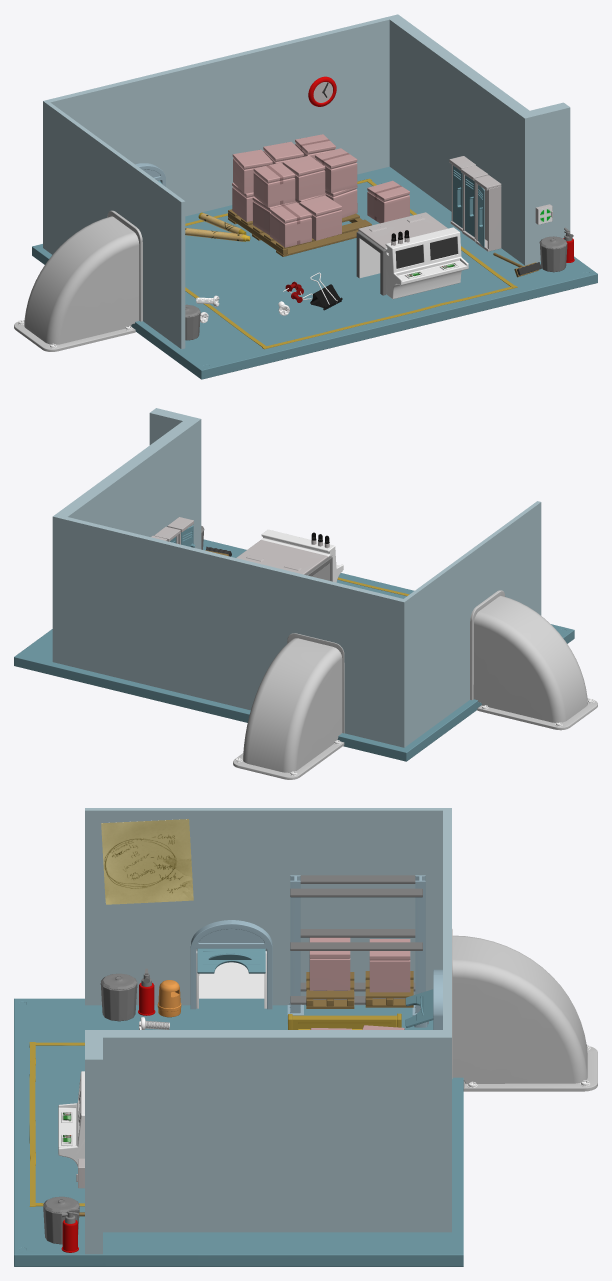
Rendered from Pica.glb.
3 views of the same model, one above another, from view 1: azimuth 30°, elevation 25°; view 2: azimuth 150°, elevation 25°; view 3: azimuth 270°, elevation 25° (orthographic). The views are drawn at different scales.
Visible parts, largest first — view 1: Walls, Mesh8_Plastic_Blue_0, pTorus5, Body, Box_032, Box_028, Box_035, Box_033, Box_025, Box_024, pCube179_Plastic_White_Matte_0.001, Box_027 (+14 smaller); view 2: Walls, pTorus5, pTorus5_Plastic_Pink_Details_0.001, Mesh8_Plastic_Blue_0, Body; view 3: Walls, Mesh8_Plastic_Blue_0, pTorus5_Plastic_Pink_Details_0.001, pCube244, pCube248, Machine_04_Inlet_Trim_03, Box24, Box25, pCylinder143_Plastic_Blue_0.001, Body, pCube195, pCube201 (+11 smaller).
Boxes of the visible parts, x1,y1,x2,y2 form: Walls: (43, 14, 570, 349); Mesh8_Plastic_Blue_0: (32, 166, 597, 379); pTorus5: (14, 210, 142, 351); Body: (358, 212, 468, 299); Box_032: (253, 162, 295, 207); Box_028: (269, 202, 311, 247); Box_035: (367, 180, 409, 223); Box_033: (315, 148, 357, 193); Box_025: (282, 155, 325, 200); Box_024: (299, 195, 341, 240); pCube179_Plastic_White_Matte_0.001: (475, 183, 501, 251); Box_027: (232, 149, 272, 193); Walls: (52, 408, 541, 747); pTorus5: (470, 590, 597, 730); pTorus5_Plastic_Pink_Details_0.001: (233, 633, 344, 779); Mesh8_Plastic_Blue_0: (14, 539, 574, 761); Body: (236, 529, 343, 582); Walls: (85, 808, 451, 1254); Mesh8_Plastic_Blue_0: (14, 998, 463, 1266); pTorus5_Plastic_Pink_Details_0.001: (452, 929, 597, 1091); pCube244: (101, 819, 193, 904); pCube248: (190, 920, 272, 1009); Machine_04_Inlet_Trim_03: (196, 951, 266, 1008); Box24: (369, 939, 410, 992); Box25: (309, 937, 350, 990); pCylinder143_Plastic_Blue_0.001: (197, 948, 265, 973); Body: (58, 1071, 84, 1166); pCube195: (292, 1015, 396, 1029); pCube201: (287, 875, 303, 1023).
Bounding box in the file's own units: 6.43 × 1.97 × 5.04.
Materials: 28 (5 with a texture image).
